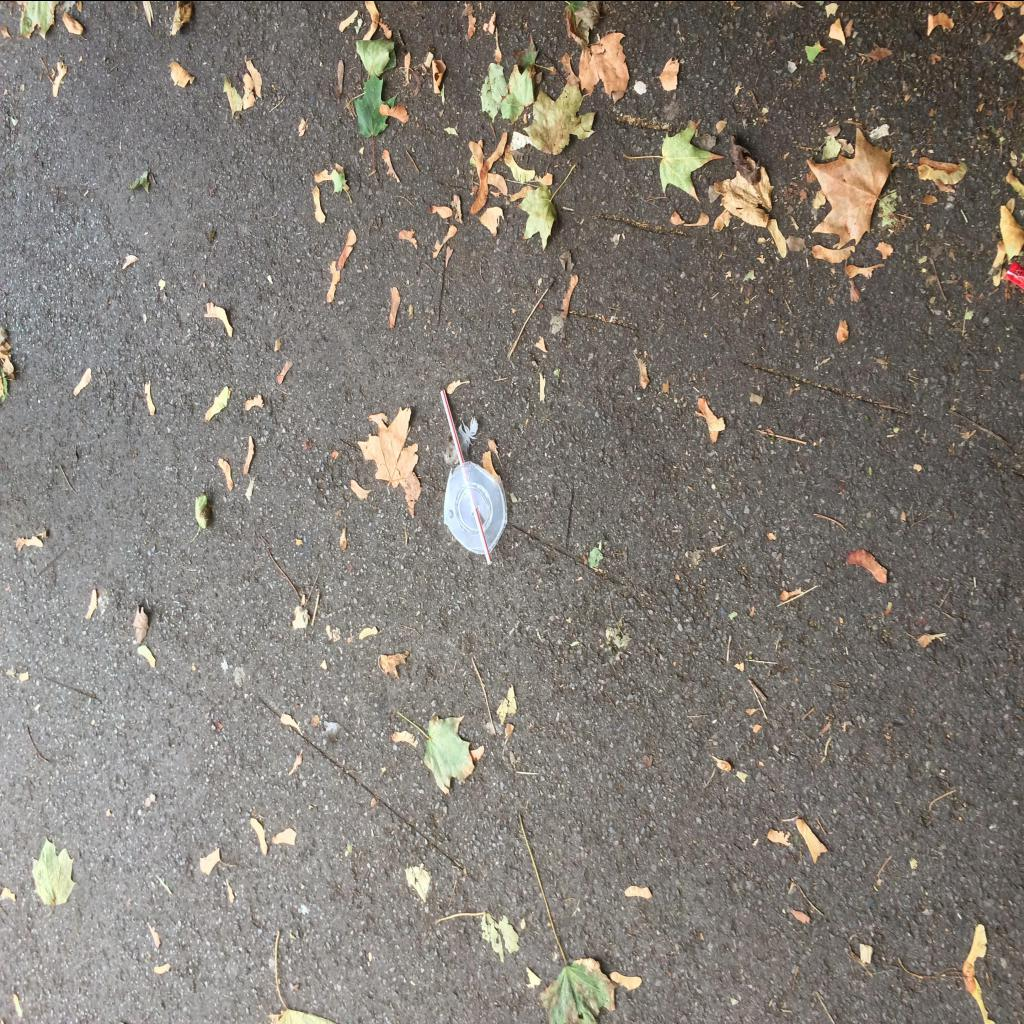Plastic lid: (444, 460, 508, 553)
Plastic straw: (440, 388, 492, 564)
Unlabeled litter: (1004, 258, 1023, 290)
